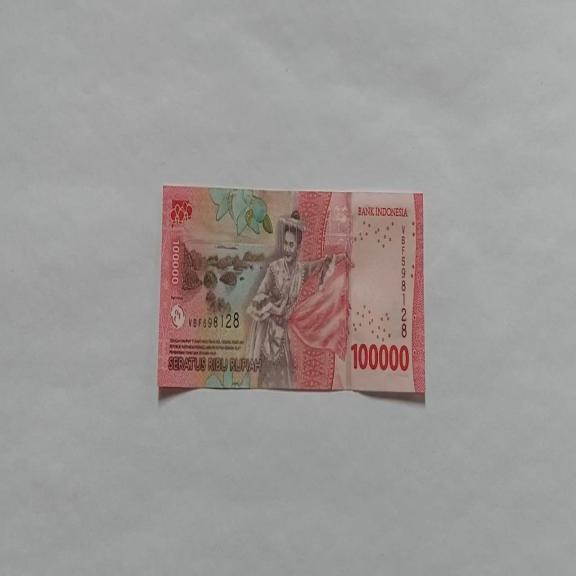Kertas: (157, 185, 425, 397), (350, 340, 410, 373)
